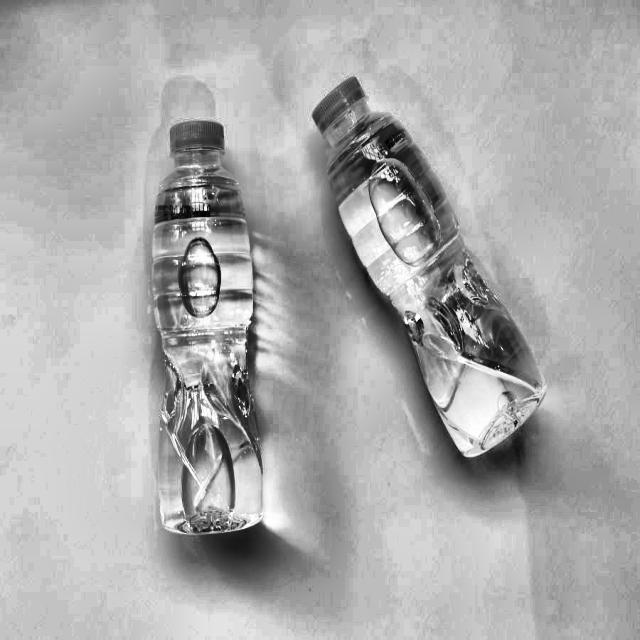waterbottle: (306, 67, 555, 472), (141, 110, 275, 540)
